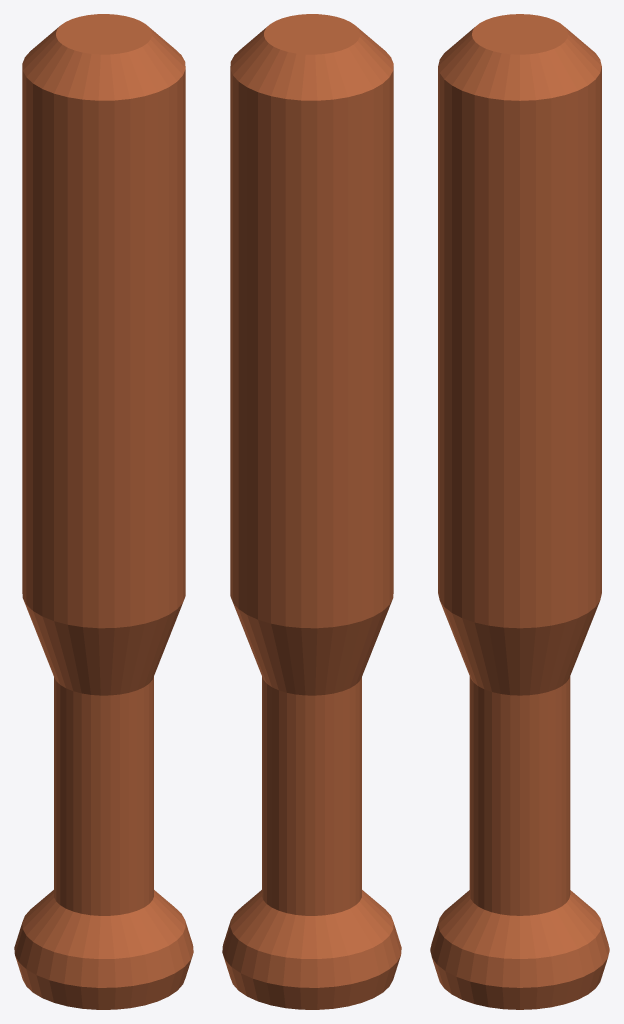
Rendered from Bat.fbx.
The picture shows the model from 3 angles, left to right: view 1: azimuth 30°, elevation 25°; view 2: azimuth 150°, elevation 25°; view 3: azimuth 270°, elevation 25°; orthographic projection.
Parts seen in each view (by area): view 1: Cylinder; view 2: Cylinder; view 3: Cylinder.
Part boxes in pixels (x1,y1,x2,y2): Cylinder: [14, 14, 193, 1009]; Cylinder: [222, 14, 401, 1009]; Cylinder: [430, 14, 609, 1009].
Size of the model in its own units: 220 by 1268 by 220.
